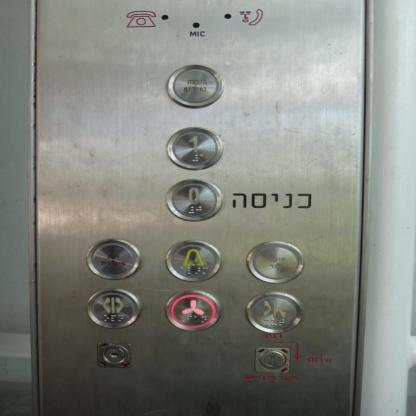0: (164, 176, 222, 221)
1: (165, 126, 223, 171)
alarm: (164, 238, 222, 283)
close: (244, 288, 304, 334)
fan: (162, 287, 222, 333)
keyhole: (94, 341, 134, 370), (253, 345, 292, 374)
open: (84, 285, 143, 330)
text: (83, 235, 143, 282), (165, 63, 224, 110), (244, 239, 304, 285)
